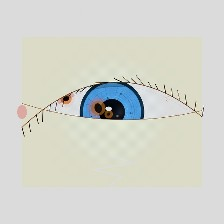foreign_body_visible: (74, 89, 123, 128)
